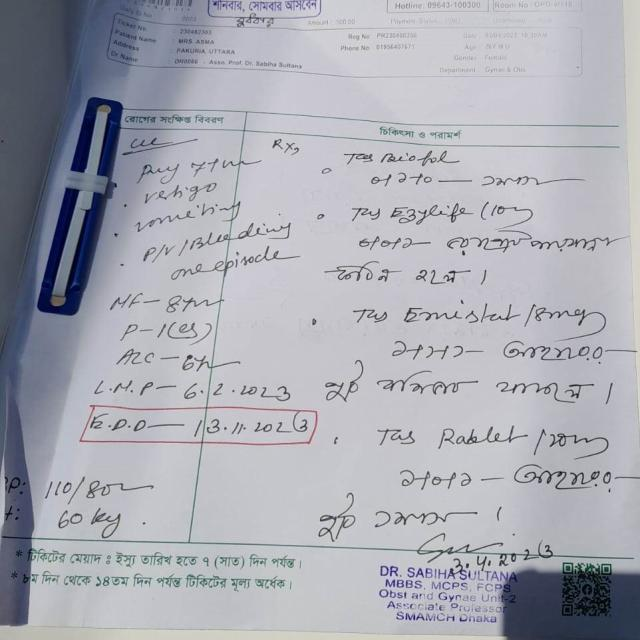Biofol: (379, 145, 471, 172)
Emistat: (397, 300, 526, 335)
Ezylife: (387, 198, 474, 229)
Rablet: (427, 416, 530, 459)
